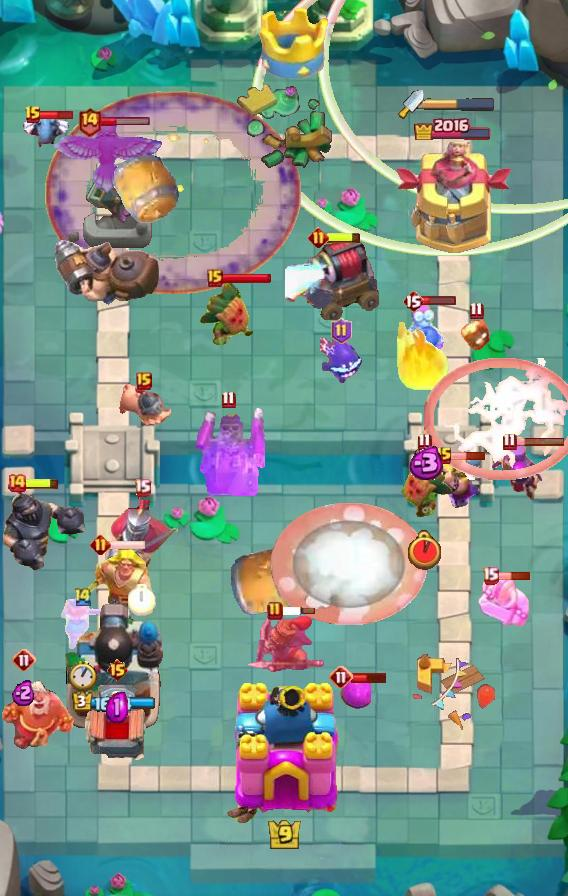arrows: (432, 455, 480, 509)
bar: (394, 142, 512, 256)
barbarian-evolution: (424, 358, 568, 480)
bomber: (460, 318, 492, 352)
dirt: (228, 547, 310, 619), (110, 149, 180, 225)
electro-spirit: (404, 446, 445, 480), (106, 693, 128, 724), (12, 678, 36, 705)
elixir: (407, 530, 441, 570), (128, 584, 156, 616), (69, 660, 97, 691)
elixir-collector: (0, 677, 78, 751)
elixir-golem-big: (244, 613, 326, 677)
elixir-golem-mid: (82, 683, 152, 769)
emote: (220, 272, 272, 284), (100, 117, 152, 128), (514, 437, 566, 448), (326, 231, 362, 245), (351, 671, 388, 684), (24, 478, 60, 491), (109, 539, 146, 551), (41, 109, 76, 121), (421, 294, 457, 305), (280, 606, 316, 616), (451, 451, 486, 461), (497, 571, 532, 581)
executioner: (117, 382, 171, 428)
goblin-barrel: (395, 447, 453, 523), (198, 280, 256, 350)
goblin-giant: (476, 574, 532, 630)
goblin-hut: (69, 547, 155, 627)
golden-knight: (53, 120, 163, 196)
golem: (285, 234, 379, 320)
hog-rider: (59, 597, 107, 651)
ice-golem: (406, 303, 446, 351)
king-tower: (222, 680, 346, 826)
king-tower-bar: (424, 97, 496, 111)
miner: (339, 679, 371, 709)
rascal-girl: (491, 440, 545, 502)
rocket: (45, 91, 301, 295)
royal-delivery: (21, 113, 69, 149)
royal-guardian: (0, 479, 92, 575)
selected: (413, 115, 493, 140), (72, 691, 156, 713)
skeleton-king-bar: (191, 408, 265, 496)
spear-goblin: (320, 338, 362, 384)
text: (78, 107, 103, 138), (12, 648, 36, 672), (329, 665, 353, 689), (106, 658, 129, 682), (332, 318, 353, 344), (402, 289, 424, 313), (307, 227, 328, 249), (89, 533, 110, 555), (73, 586, 93, 607), (7, 473, 27, 493), (24, 105, 42, 125), (435, 446, 453, 466), (133, 479, 151, 497), (481, 567, 499, 585), (267, 601, 283, 621), (207, 269, 223, 287), (136, 372, 152, 390), (220, 391, 235, 410), (502, 433, 517, 452), (417, 433, 431, 452), (469, 301, 483, 319)
tower-bar: (64, 601, 164, 731)
valkyrie: (392, 322, 452, 392)
wall-breaker: (272, 503, 428, 625)
wall-breaker-evolution: (103, 486, 181, 574)
wizard: (51, 237, 163, 307)
